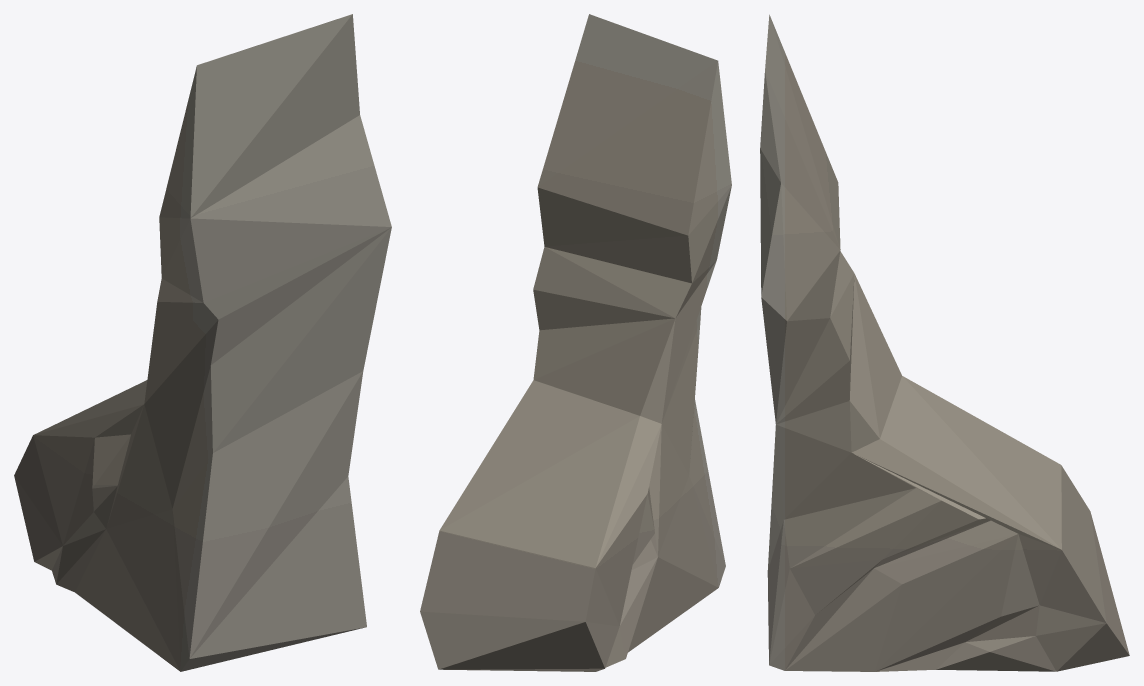
File: YN_PointyRock2.fbx
3 renders of one model, left to right at view 1: azimuth 30°, elevation 25°; view 2: azimuth 150°, elevation 25°; view 3: azimuth 270°, elevation 25°, orthographic. The views are drawn at different scales.
Parts seen in each view (by area): view 1: PointyRock2; view 2: PointyRock2; view 3: PointyRock2.
Part boxes in pixels (left/top/right/bottom): PointyRock2: left=14, top=14, right=391, bottom=671; PointyRock2: left=420, top=14, right=731, bottom=671; PointyRock2: left=760, top=14, right=1129, bottom=671.
Size of the model in its own units: 1.99 by 5.64 by 3.18.
